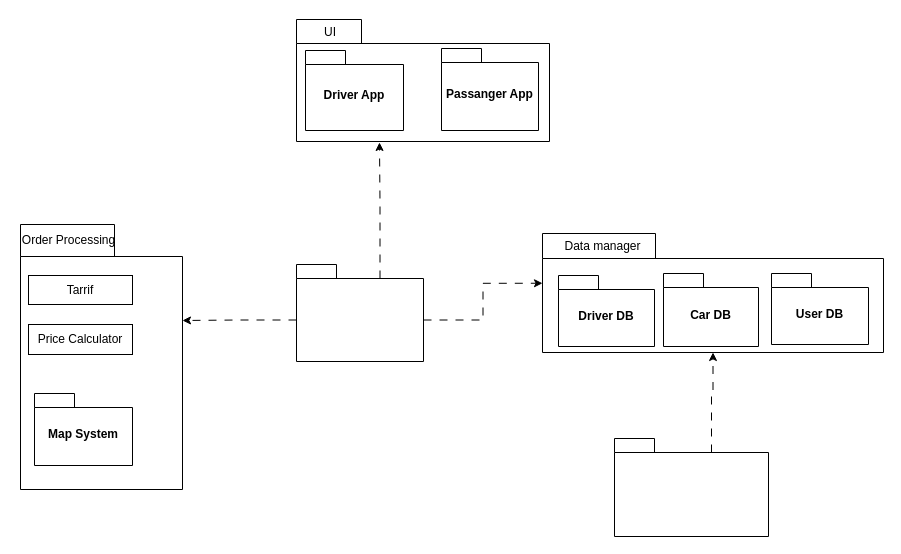
This 901x554 diagram has some shape labels left out. The shapes that lost their labels are listed below. From the top down, each one's centre as x and y in pixels, then its label:
pixel 360 313: WaxW taxi system
pixel 691 487: Review System
